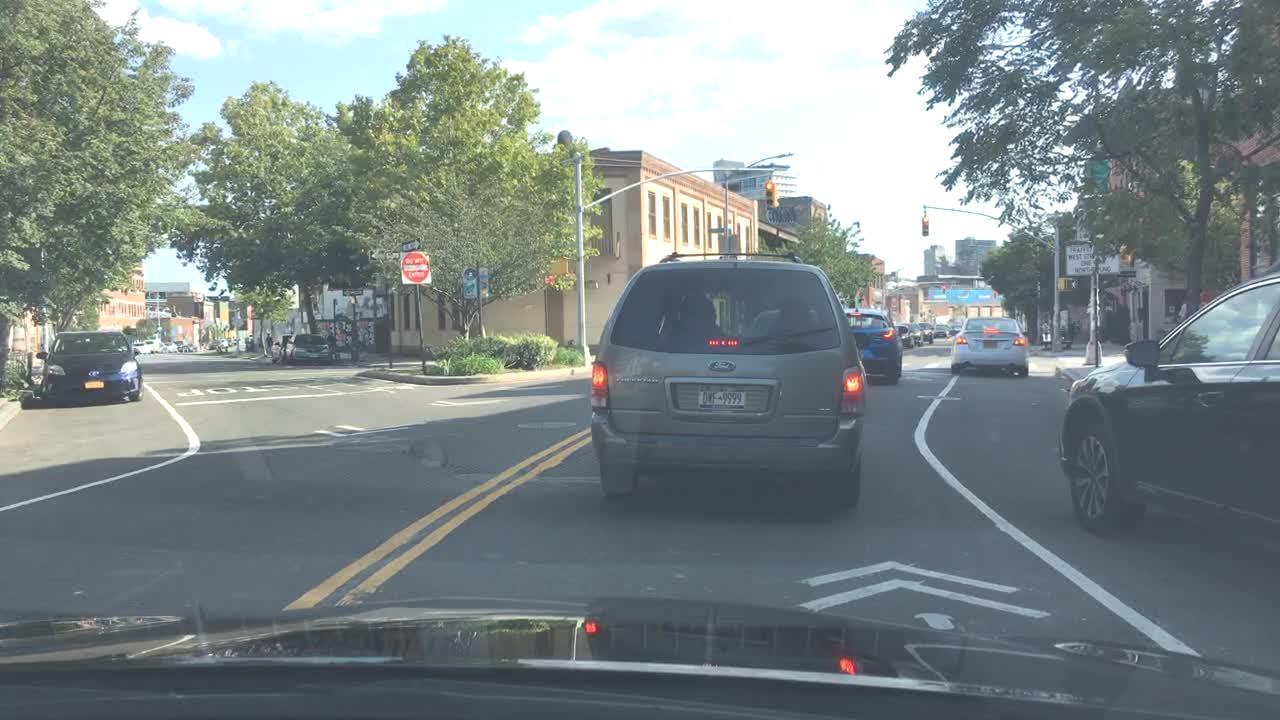ford: (708, 355, 742, 376)
